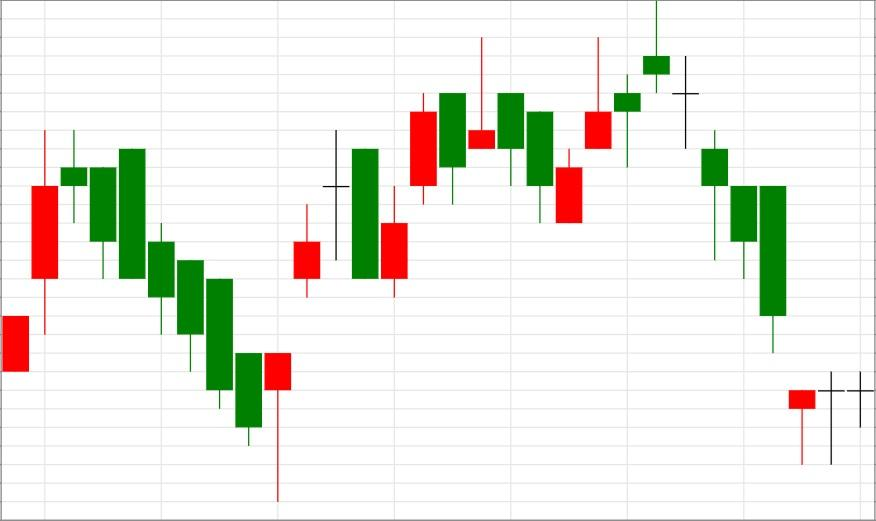hammer_rise: (118, 147, 293, 503)
